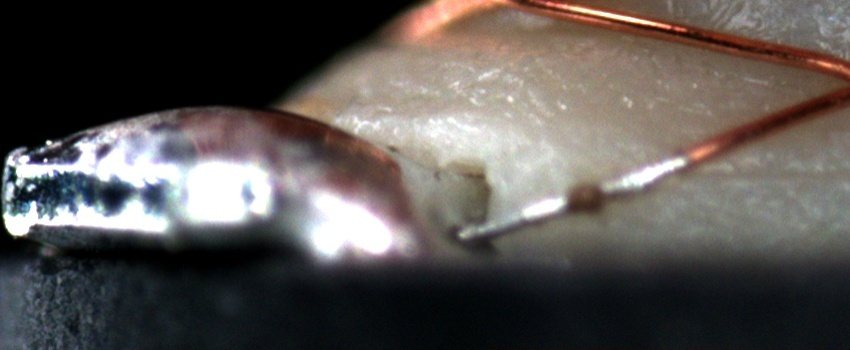CL: (827, 61, 850, 106)
DL: (715, 143, 850, 206)
TS: (458, 155, 687, 244)
